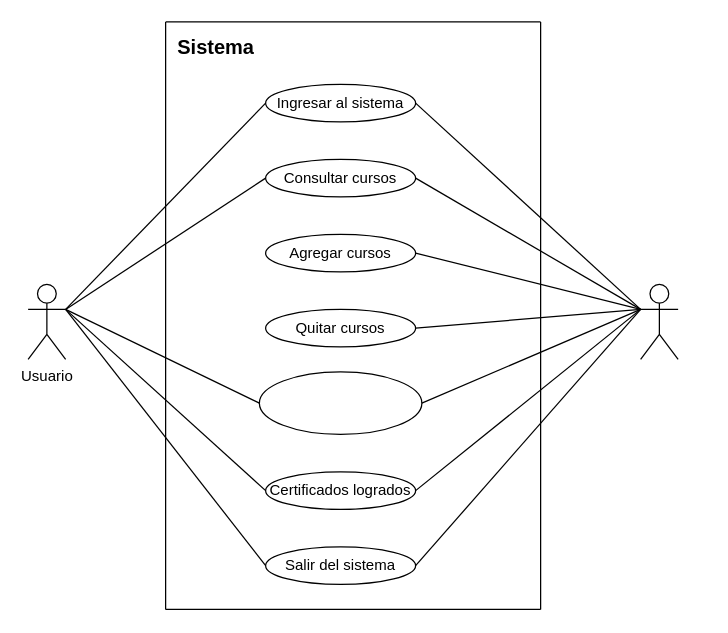
The diagram is 728 pixels wide and 633 high, and some of its shapes have lost their labels. Each missing label, with the box of its shape:
Administrador: (639, 283, 678, 359)
Notificación de cursos nuevos: (258, 371, 422, 434)
